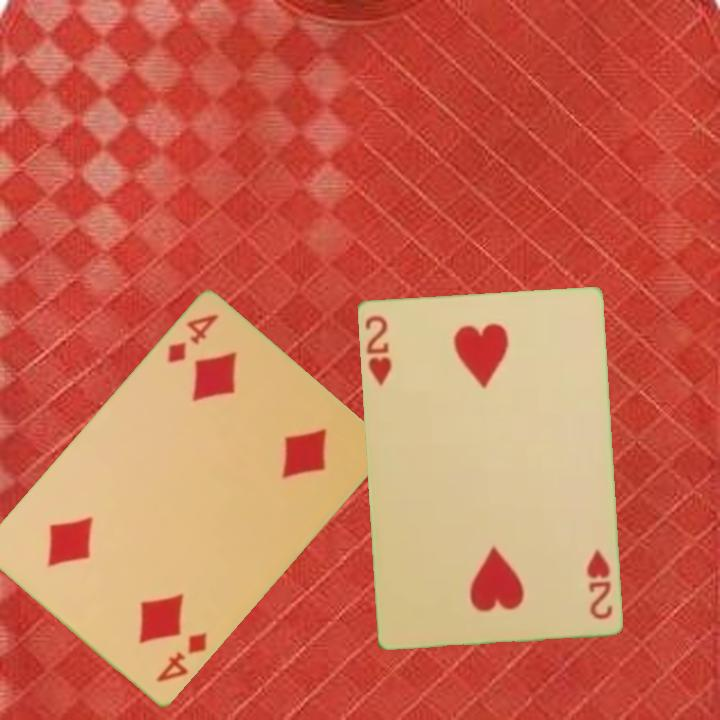2h: (361, 312, 395, 388), (582, 546, 615, 622)
4d: (152, 629, 211, 686), (164, 310, 221, 367)
